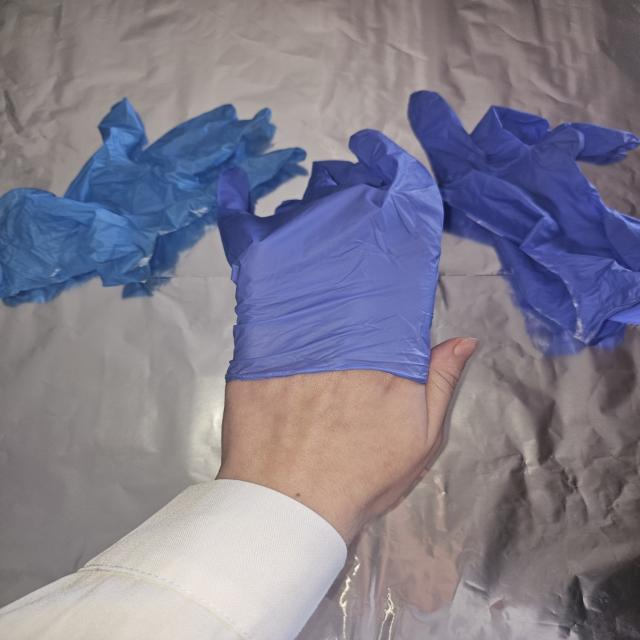glove_partial: (211, 128, 481, 470)
